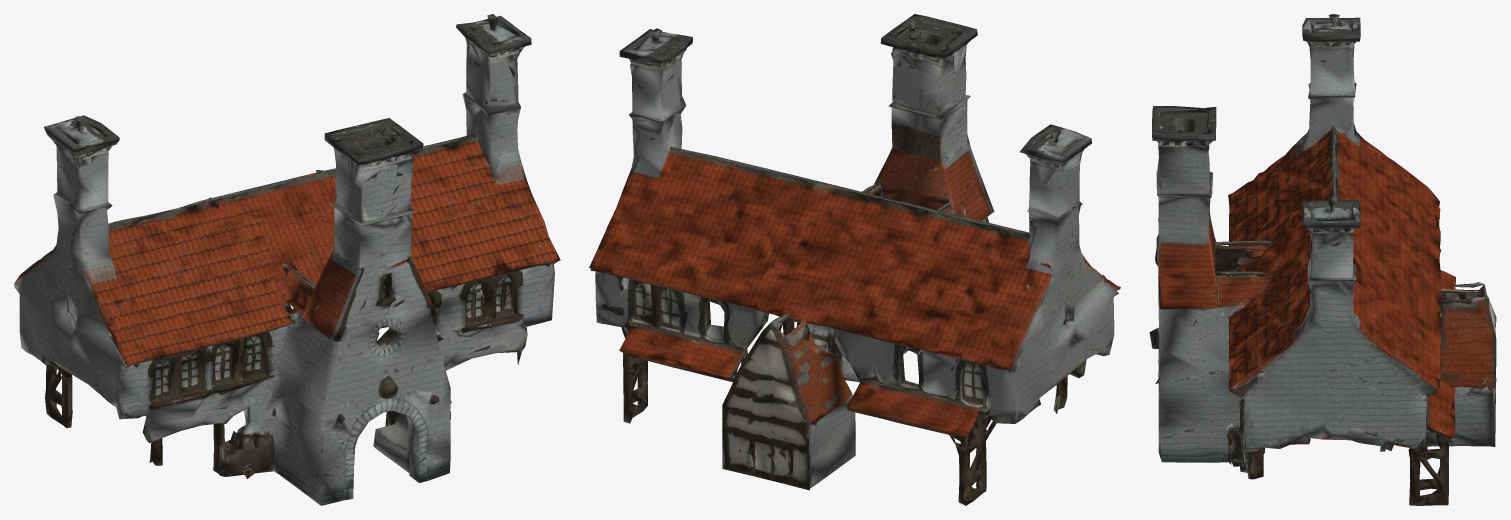
The model's file is kanonengiesserei.glb.
The picture shows the model from 3 angles, left to right: view 1: azimuth 30°, elevation 25°; view 2: azimuth 150°, elevation 25°; view 3: azimuth 270°, elevation 25°; orthographic projection. The views are drawn at different scales.
Size of the model in its own units: 1.9 by 1.42 by 1.36.
Materials: 1 (1 with a texture image).
